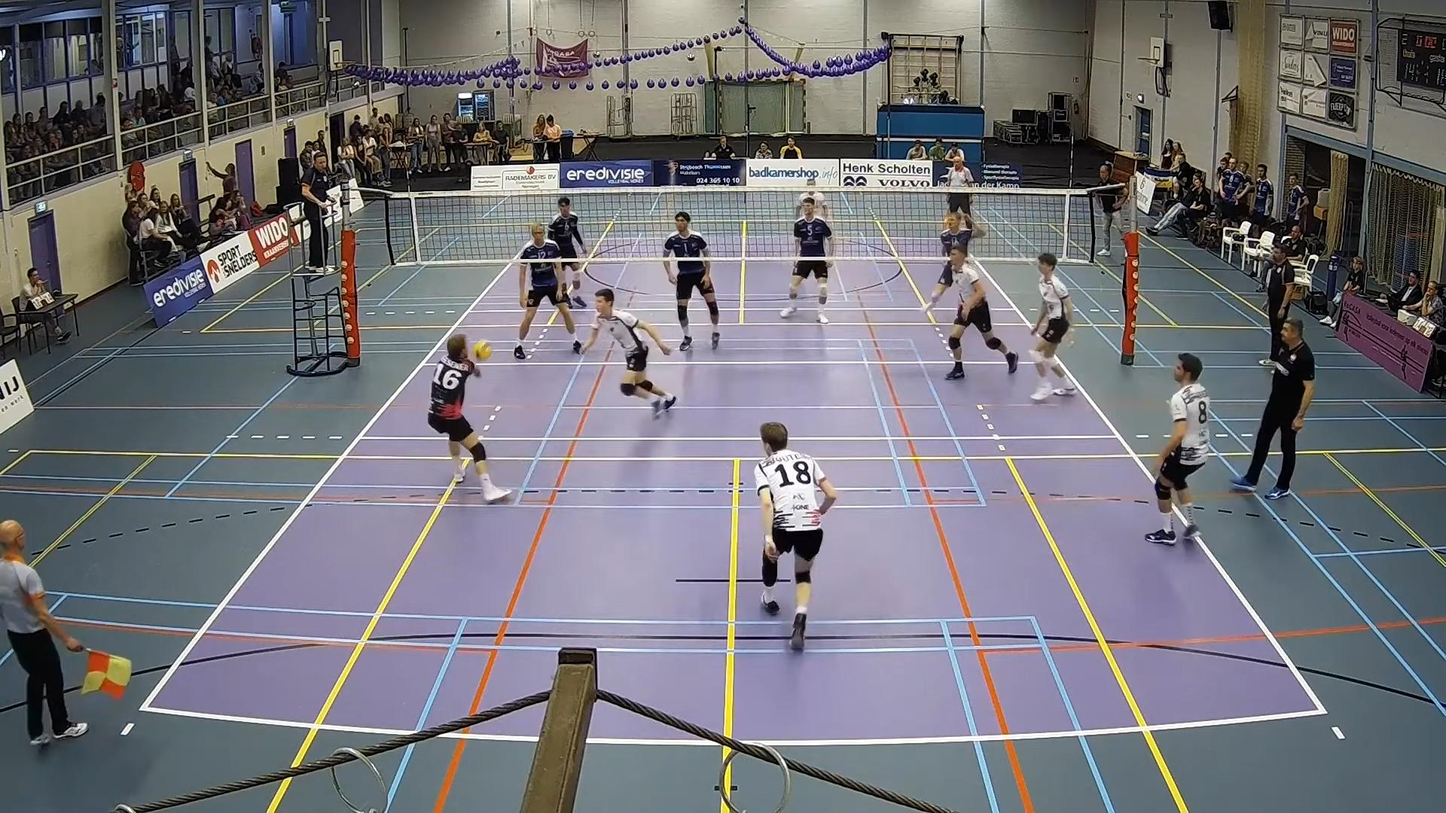Dig: (426, 332, 499, 487)
Player: (755, 422, 836, 650), (1145, 353, 1210, 544), (581, 288, 676, 416), (946, 245, 1017, 379), (513, 224, 580, 359), (664, 212, 719, 351), (1030, 253, 1076, 400), (780, 200, 833, 323), (923, 212, 987, 312), (548, 196, 586, 307), (795, 178, 829, 218)
ball: (461, 336, 496, 364)
